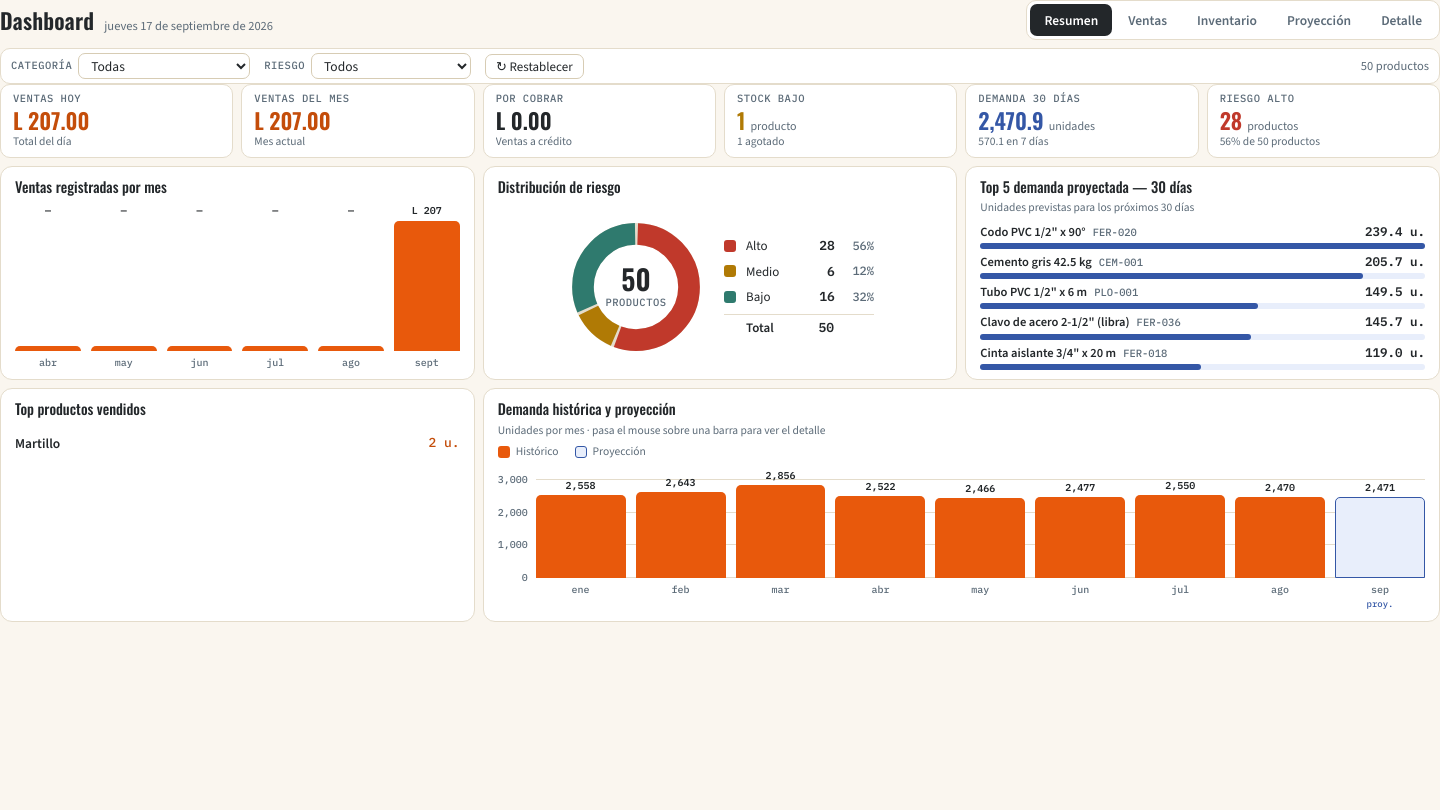
Test case: con el archivo publicado › muestra los resultados aprobados sin filtros
expect the text "Distribución de riesgo" is shown: met, box [498,176,621,197]
Click the tab "Proyección" at [1319, 20], box [1273,4,1365,36]
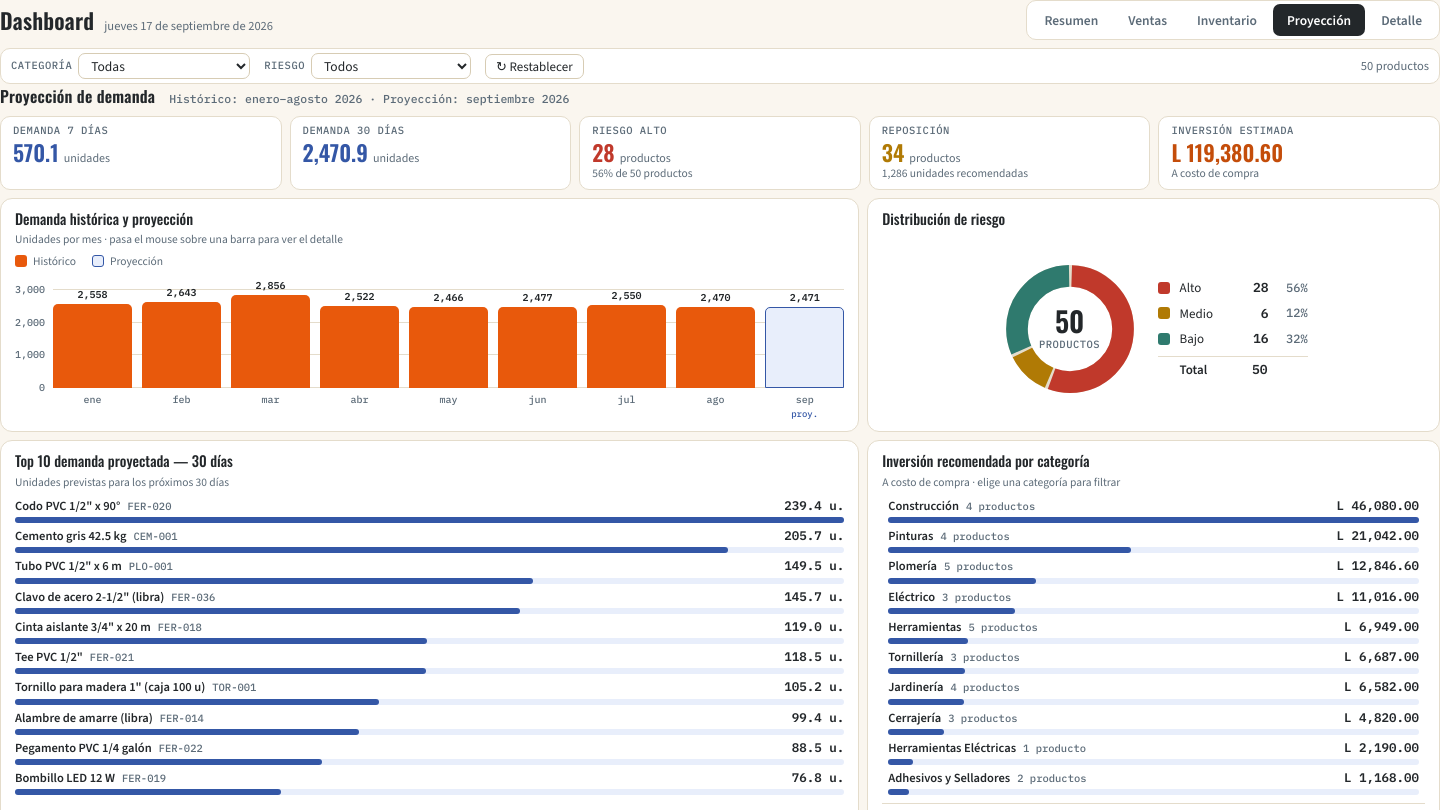
expect the text with class "filtros-estado" reads "50 productos": met, box [1361,57,1429,74]
expect the text "Demanda 7 días" shows "570.1unidades": met, box [0,116,282,190]
expect the text "Inversión estimada" shows "L 119,380.60": met, box [1171,136,1283,168]
Click the tab "Detalle" at [1402, 20], box [1367,4,1436,36]
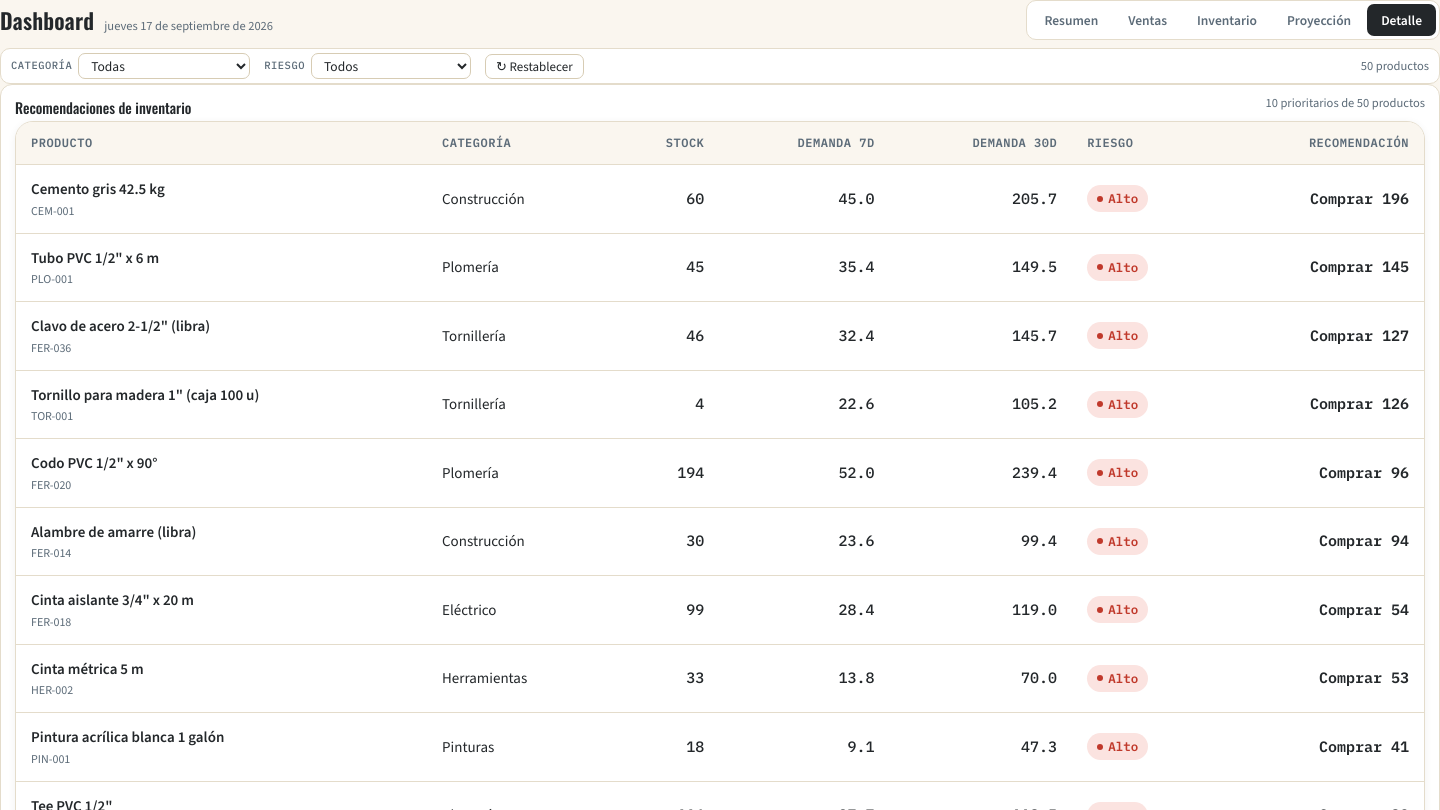
expect the text "10 prioritarios de 50 productos" is shown: met, box [1266,94,1425,113]
